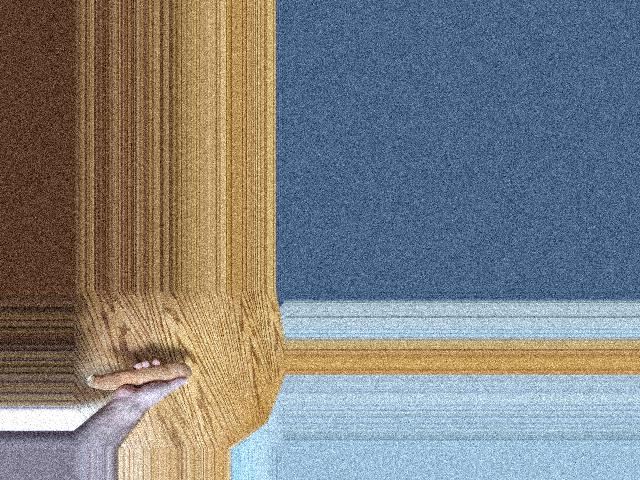sweet_potato: (87, 358, 189, 393)
